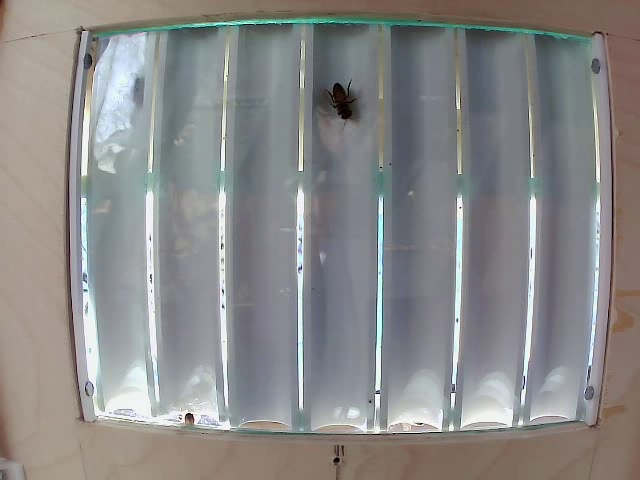bee: (320, 75, 365, 141)
